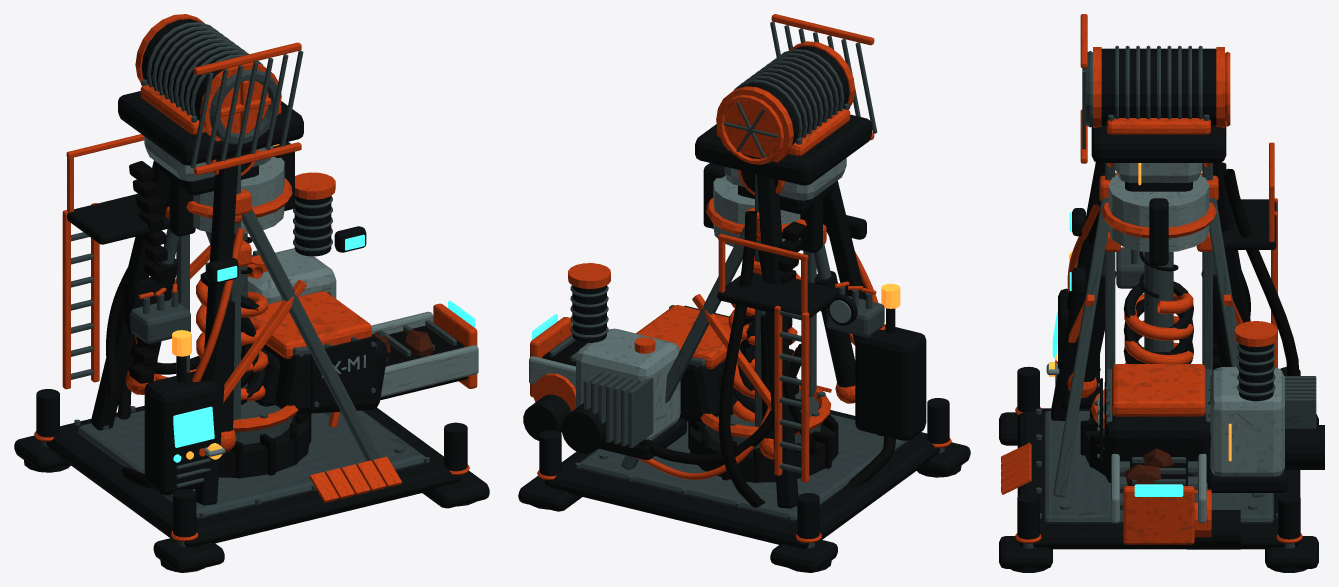
File: factoryx_miner.glb
3 renders of one model, left to right at view 1: azimuth 30°, elevation 25°; view 2: azimuth 150°, elevation 25°; view 3: azimuth 270°, elevation 25°, orthographic. The views are drawn at different scales.
Parts seen in each view (by area): view 1: BaseDeck, DeckInset, ControlCabinet, RearMast_1.15, MastCrown, FrontBrace_1.15, HopperArmor, RearMast_-1.15, OutputRail_0.5, HopperBody, MainAccessPanel, ServicePlatform (+43 smaller); view 2: BaseDeck, DeckInset, ControlCabinet, HydraulicTank, MastCrown, RearMast_-1.15, MainPowerCable, MotorCap_-0.71, ServicePlatform, MainMotor, HopperArmor, FrontBrace_-1.15 (+43 smaller); view 3: HydraulicTank, DeckInset, MainMotor, BaseDeck, HopperArmor, HopperBody, CarriageBody, MastCrown, OUTPUT_Port, FrontBrace_1.15, MainPowerCable, ContinuousAugerFlight (+44 smaller).
Boxes of the visible parts, bbox=[...] form: BaseDeck: bbox=[46, 405, 462, 547]; DeckInset: bbox=[77, 410, 425, 518]; ControlCabinet: bbox=[144, 371, 218, 495]; RearMast_1.15: bbox=[195, 154, 238, 505]; MastCrown: bbox=[118, 91, 303, 165]; FrontBrace_1.15: bbox=[242, 208, 380, 461]; HopperArmor: bbox=[249, 291, 371, 358]; RearMast_-1.15: bbox=[91, 160, 169, 430]; OutputRail_0.5: bbox=[380, 345, 478, 397]; HopperBody: bbox=[263, 334, 387, 414]; MainAccessPanel: bbox=[311, 336, 375, 410]; ServicePlatform: bbox=[67, 193, 169, 244]; BaseDeck: bbox=[544, 410, 940, 548]; DeckInset: bbox=[579, 414, 908, 521]; ControlCabinet: bbox=[855, 324, 926, 440]; HydraulicTank: bbox=[576, 328, 680, 440]; MastCrown: bbox=[695, 114, 871, 185]; RearMast_-1.15: bbox=[757, 174, 798, 508]; MainPowerCable: bbox=[718, 211, 895, 507]; MotorCap_-0.71: bbox=[716, 86, 793, 162]; ServicePlatform: bbox=[717, 272, 839, 319]; MainMotor: bbox=[741, 46, 849, 145]; HopperArmor: bbox=[636, 305, 748, 369]; FrontBrace_-1.15: bbox=[621, 226, 744, 469]; HydraulicTank: bbox=[1210, 367, 1284, 476]; DeckInset: bbox=[1043, 411, 1273, 523]; MainMotor: bbox=[1101, 48, 1216, 125]; BaseDeck: bbox=[1017, 408, 1300, 549]; HopperArmor: bbox=[1112, 364, 1205, 416]; HopperBody: bbox=[1104, 380, 1211, 482]; CarriageBody: bbox=[1108, 175, 1209, 252]; MastCrown: bbox=[1091, 125, 1226, 162]; OUTPUT_Port: bbox=[1123, 486, 1194, 544]; FrontBrace_1.15: bbox=[1053, 198, 1108, 497]; MainPowerCable: bbox=[1222, 168, 1299, 375]; ContinuousAugerFlight: bbox=[1124, 293, 1193, 363].
Bounding box in the file's own units: 4.67 × 5.61 × 3.75.
Materials: 8 (6 with a texture image).
